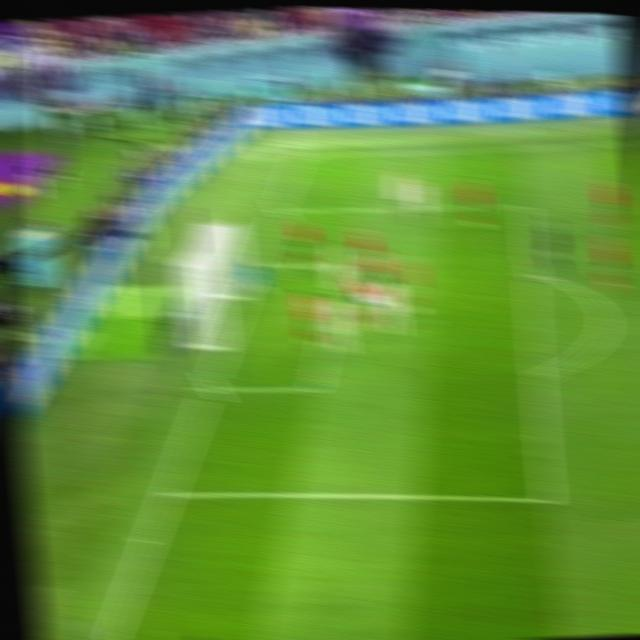bigarea_bottom_inner: (531, 482, 565, 512)
bigarea_bottom_outter: (152, 479, 184, 509)
bigarea_top_inner: (512, 194, 538, 215)
bigarea_top_outter: (265, 199, 292, 219)
bottom_arc_area_intersection: (524, 361, 552, 384)
corner: (287, 148, 313, 164)
smallarea_bottom_inner: (299, 371, 331, 401)
smallarea_bottom_outter: (192, 372, 227, 402)
top_arc_area_intersection: (518, 261, 544, 282)
